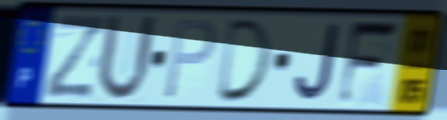D: (213, 16, 275, 105)
F: (335, 18, 402, 110)
J: (292, 21, 343, 104)
P: (161, 17, 219, 103)
U: (93, 10, 160, 105)
Z: (42, 12, 109, 101)
